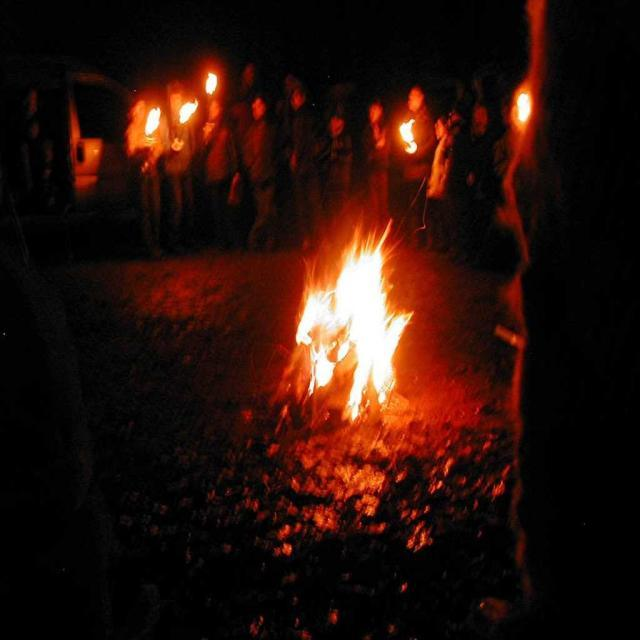Fire: (329, 274, 385, 374)
